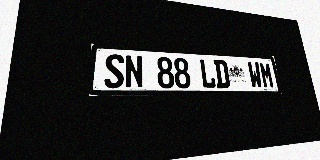8: (156, 56, 175, 88), (173, 57, 191, 88)
D: (213, 60, 230, 88)
L: (199, 59, 216, 88)
M: (259, 62, 275, 88)
N: (125, 55, 144, 88)
S: (104, 54, 124, 88)
W: (247, 61, 263, 88)
